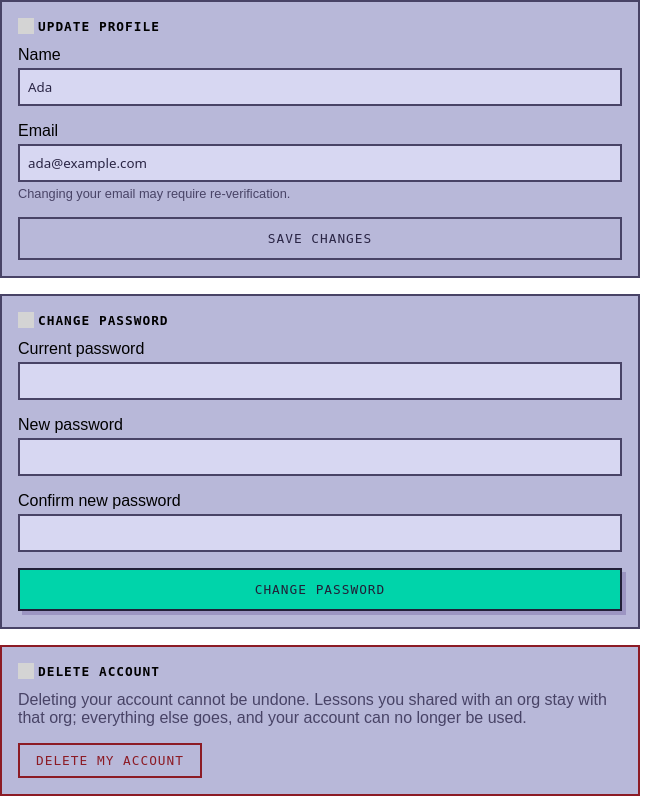
Test: what the panel says deletion will destroy › says plainly when there is nothing shared to lose
Click the button "Delete my account" at (110, 760), box top-left (18, 743), bottom-right (202, 778)
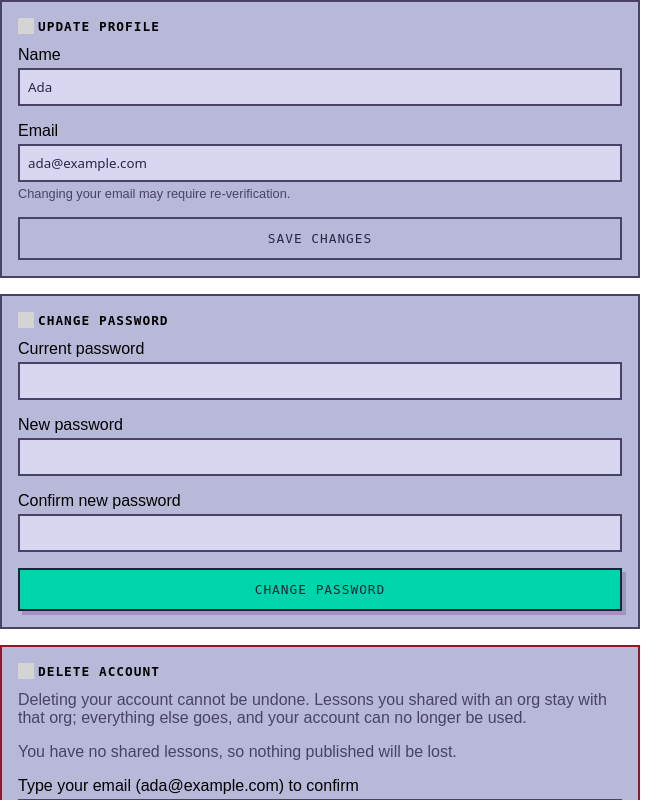
Check: the text "no shared lessons" is shown, box top-left (18, 743), bottom-right (457, 760)
